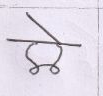e_matra: (27, 13, 62, 41)
